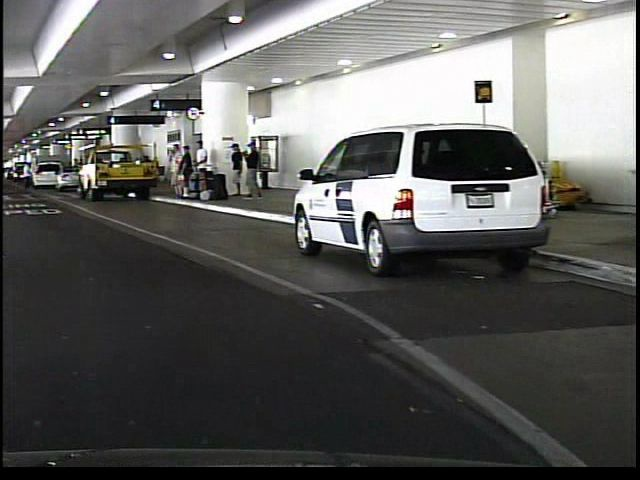person: (241, 141, 257, 202), (161, 141, 177, 200), (18, 160, 30, 191)
